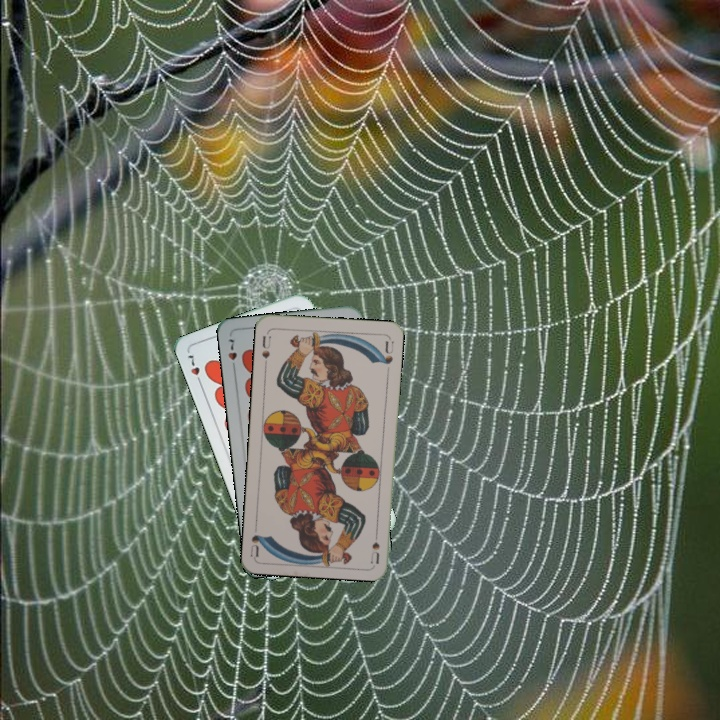H7: (183, 351, 205, 388), (224, 335, 239, 374)
SU: (367, 524, 382, 565), (258, 332, 274, 369)
